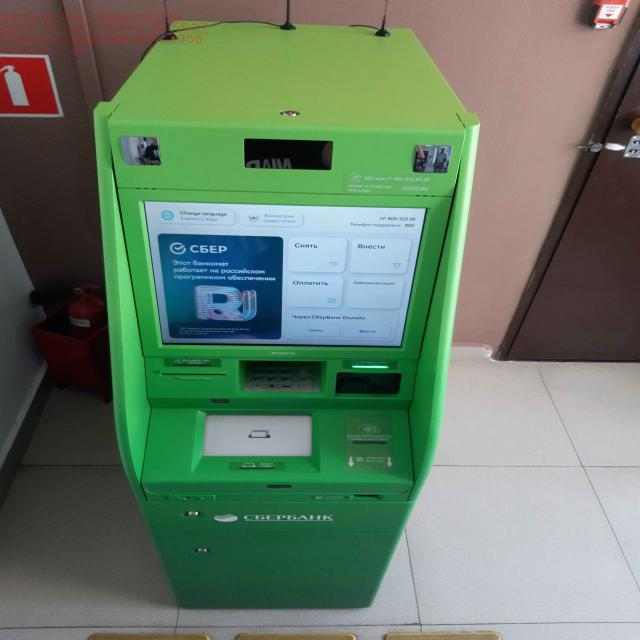bank: (87, 18, 478, 609)
